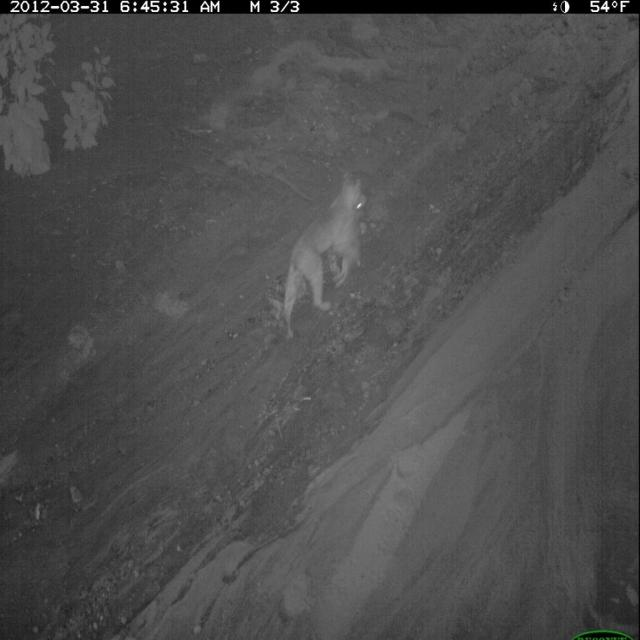bobcat: (281, 168, 370, 342)
rabbit: (334, 192, 366, 292)
